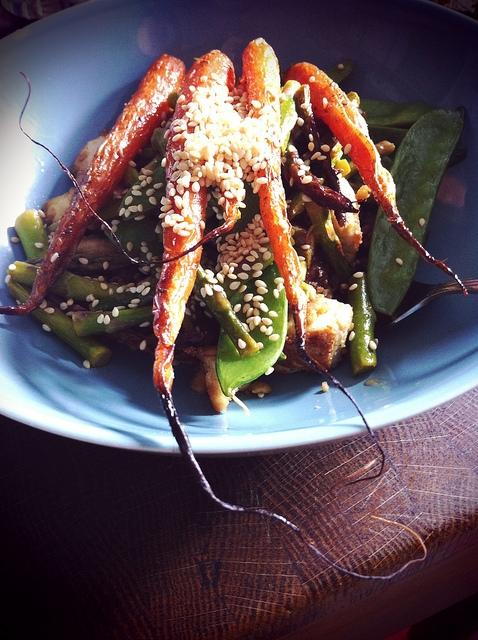asparagus: (8, 279, 112, 368), (193, 264, 260, 358), (7, 260, 122, 304), (305, 201, 353, 284), (347, 272, 377, 376), (72, 306, 154, 338), (89, 284, 156, 312), (14, 210, 50, 260), (67, 254, 132, 271), (120, 166, 139, 190)
carrot: (152, 49, 300, 532), (243, 37, 386, 496), (1, 52, 188, 318), (284, 62, 468, 296), (20, 71, 241, 264), (280, 149, 359, 214)
green bean: (368, 110, 465, 316), (216, 260, 289, 398), (193, 265, 260, 358), (7, 260, 122, 308), (24, 232, 140, 272), (347, 272, 377, 376), (117, 163, 167, 221), (358, 98, 436, 128), (88, 282, 156, 312), (15, 208, 48, 260), (280, 98, 298, 156), (324, 59, 354, 84), (367, 124, 409, 138)
pea: (368, 111, 465, 316), (359, 98, 440, 127), (368, 126, 410, 148), (381, 156, 392, 170)
